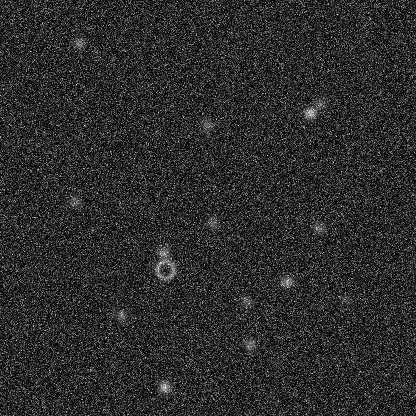Ring: (153, 257, 177, 281)
Spot: (238, 293, 254, 309), (70, 34, 86, 50), (204, 214, 220, 230), (302, 104, 318, 120), (113, 307, 129, 323), (242, 336, 258, 352), (311, 94, 327, 110), (198, 116, 214, 132), (66, 193, 82, 209), (310, 220, 326, 236), (278, 273, 294, 289), (337, 291, 353, 307), (155, 244, 171, 260), (156, 379, 172, 395)
